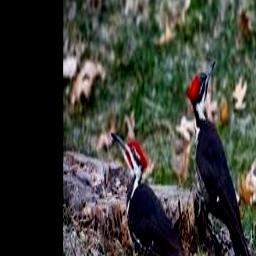Woodpecker: (187, 62, 255, 256), (112, 131, 194, 256)
